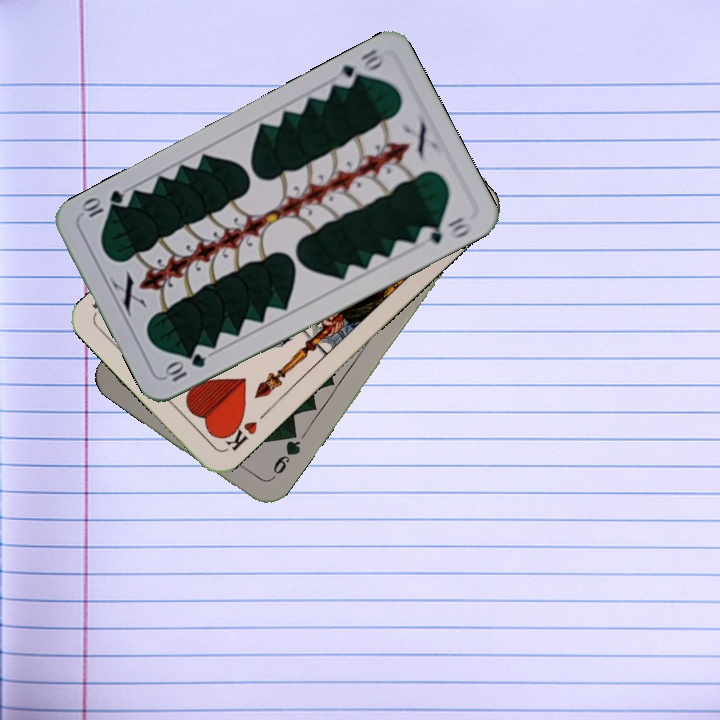G10: (330, 45, 388, 91), (161, 349, 209, 385)
G9: (265, 429, 304, 483)
HK: (216, 413, 260, 454)
